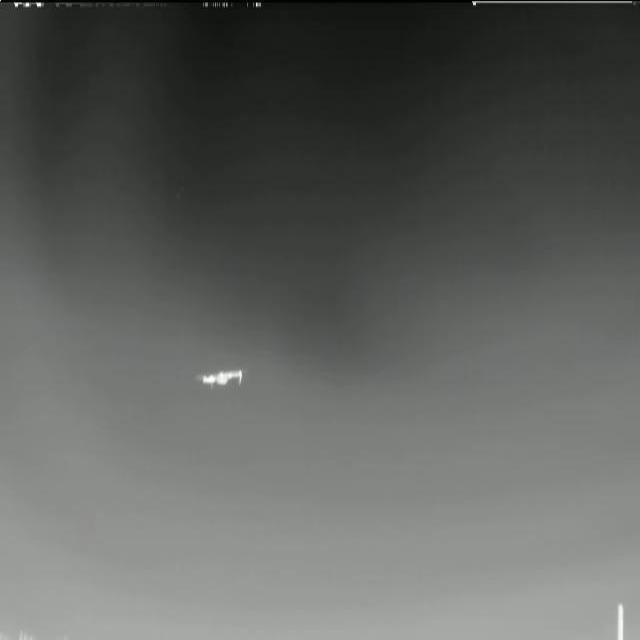DRONE: (190, 358, 252, 398)
